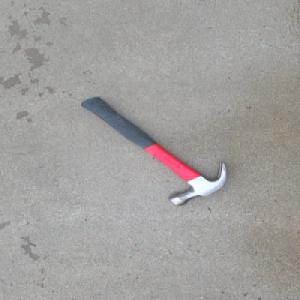Hammer: (79, 97, 228, 208)
